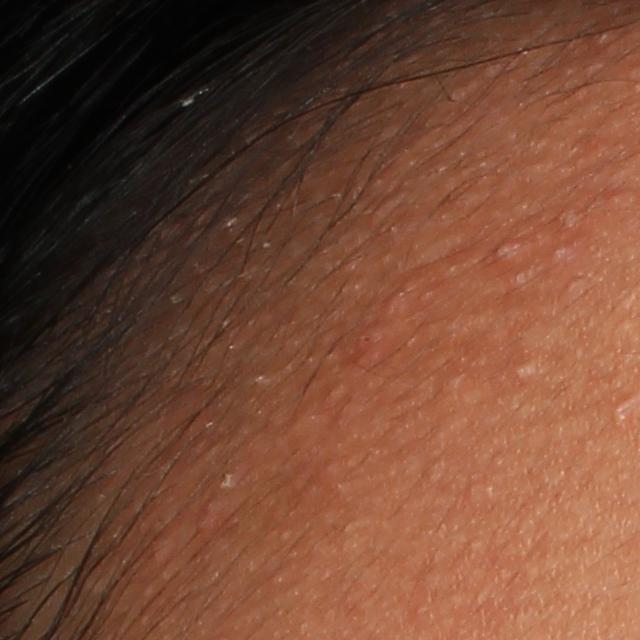comedo: (508, 354, 535, 386), (216, 466, 243, 498), (491, 238, 518, 264), (551, 244, 566, 264)
